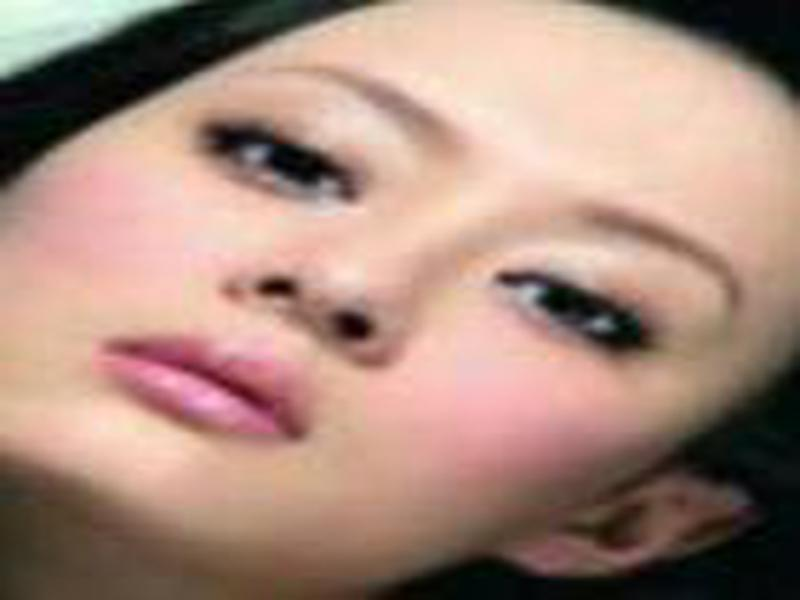without_mask: (6, 1, 800, 599)
